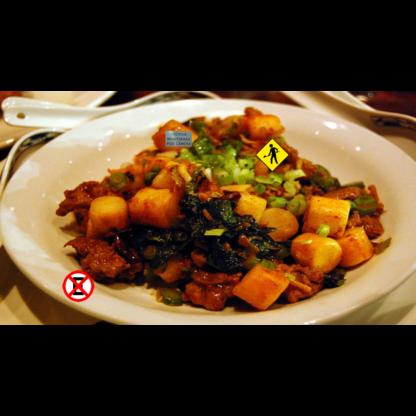A-24: (255, 138, 289, 172)
I-E: (165, 131, 192, 146)
R-6c: (62, 270, 94, 302)
